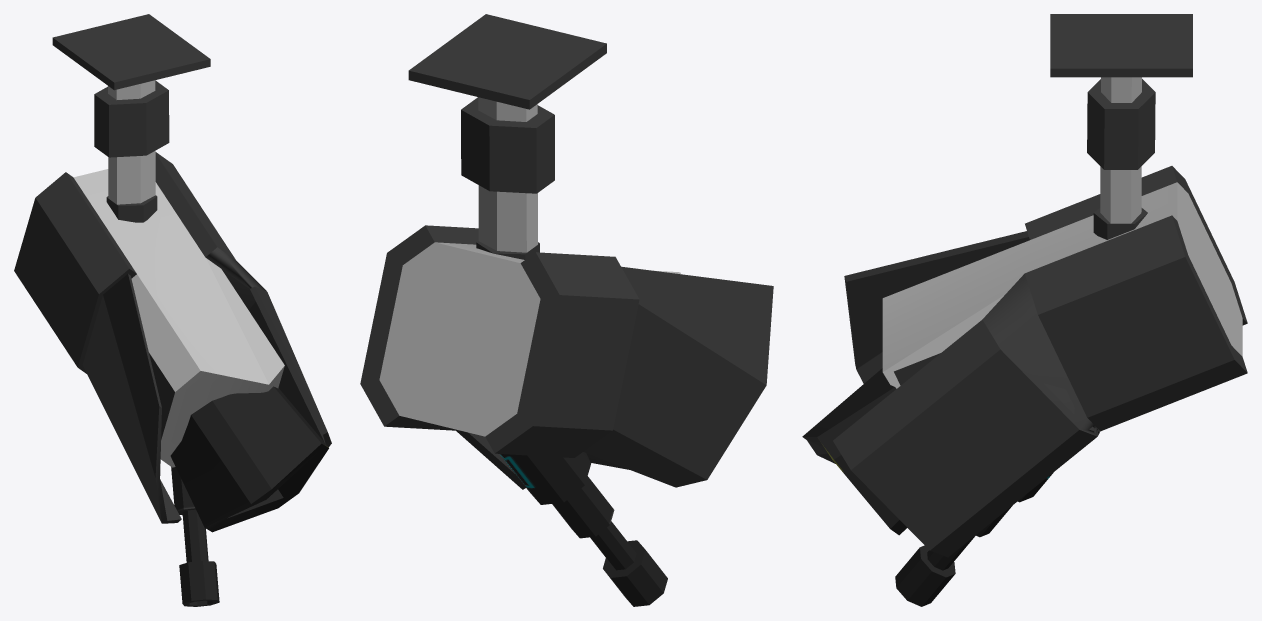
Rendered from Camera_Broken.fbx.
3 renders of one model, left to right at view 1: azimuth 30°, elevation 25°; view 2: azimuth 150°, elevation 25°; view 3: azimuth 270°, elevation 25°, orthographic. The views are drawn at different scales.
Visible parts, largest first — view 1: polySurface29; view 2: polySurface29; view 3: polySurface29.
Part boxes in pixels (x1=…): polySurface29: x1=14, y1=14, x2=331, y2=606; polySurface29: x1=360, y1=14, x2=773, y2=606; polySurface29: x1=802, y1=14, x2=1247, y2=606.
Bounding box in the file's own units: 126 × 339 × 239.
1 material, 1 textured.
